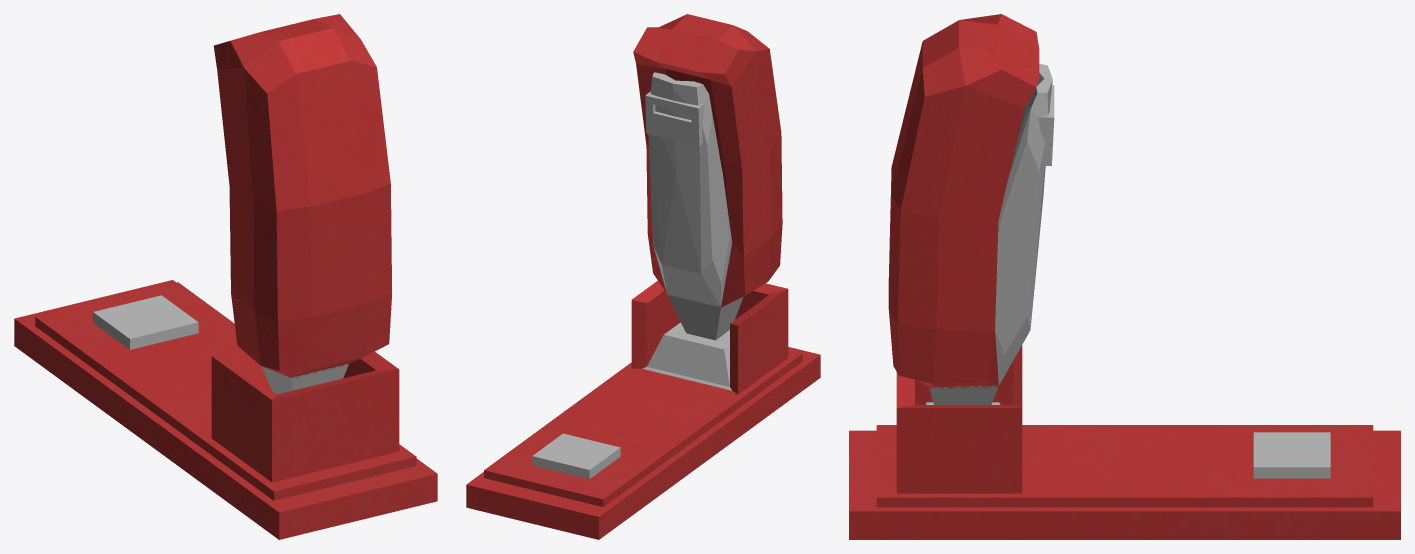
The model's file is Grapadora.fbx.
3 renders of one model, left to right at view 1: azimuth 30°, elevation 25°; view 2: azimuth 150°, elevation 25°; view 3: azimuth 270°, elevation 25°, orthographic. The views are drawn at different scales.
Visible parts, largest first — view 1: Cube.002, Cube, Cube.001; view 2: Cube.002, Cube, Cube.001, Cube.003; view 3: Cube, Cube.002, Cube.001, Cube.003.
Boxes of the visible parts, bbox=[...] form: Cube.002: bbox=[213, 14, 392, 394]; Cube: bbox=[14, 280, 437, 539]; Cube.001: bbox=[211, 351, 399, 482]; Cube.002: bbox=[633, 14, 782, 340]; Cube: bbox=[466, 347, 820, 539]; Cube.001: bbox=[631, 281, 788, 394]; Cube.003: bbox=[645, 91, 704, 146]; Cube: bbox=[849, 425, 1400, 539]; Cube.002: bbox=[888, 14, 1052, 404]; Cube.001: bbox=[896, 345, 1022, 493]; Cube.003: bbox=[1038, 85, 1054, 165].
Size of the model in its own units: 200 by 539 by 579.
Materials: 1 (1 with a texture image).
